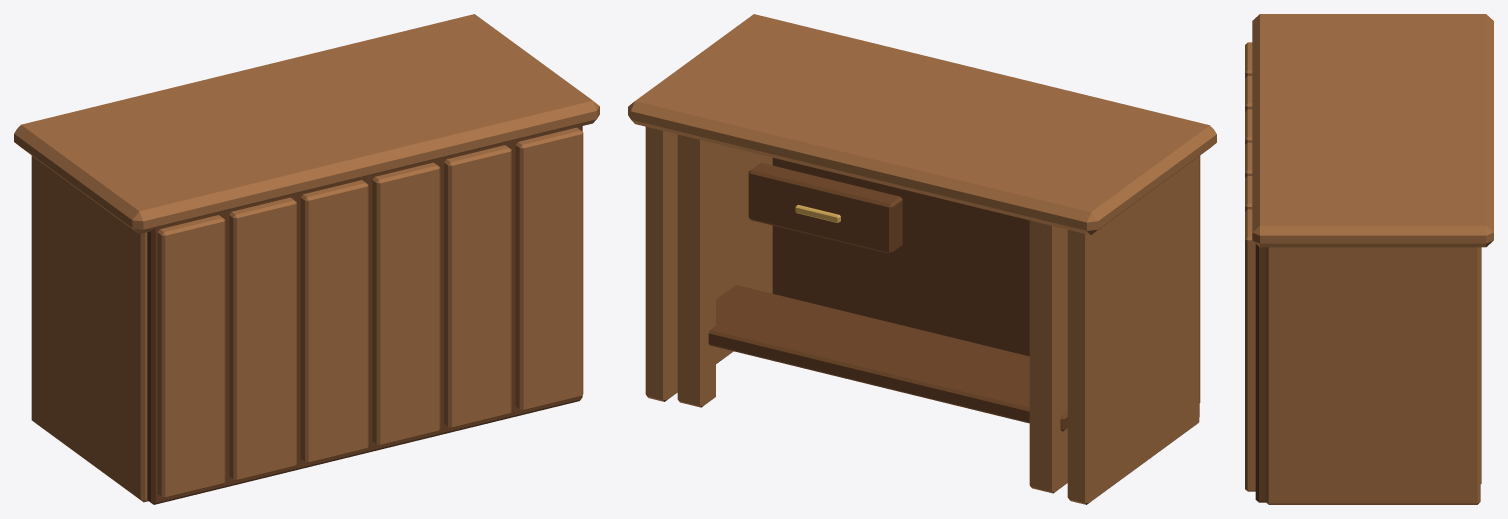
File: WoodenCashierCounter.glb
3 views of the same model, side by side, from view 1: azimuth 30°, elevation 25°; view 2: azimuth 150°, elevation 25°; view 3: azimuth 270°, elevation 25° (orthographic). The views are drawn at different scales.
Visible parts, largest first — view 1: FTF_Prop_WoodenCashierCounter_StaticMesh; view 2: FTF_Prop_WoodenCashierCounter_StaticMesh; view 3: FTF_Prop_WoodenCashierCounter_StaticMesh.
Boxes of the visible parts, x1,y1,x2,y2 form: FTF_Prop_WoodenCashierCounter_StaticMesh: (14,14,599,504); FTF_Prop_WoodenCashierCounter_StaticMesh: (628,14,1216,504); FTF_Prop_WoodenCashierCounter_StaticMesh: (1245,14,1493,504).
Size of the model in its own units: 2.35 by 1.43 by 1.13.
